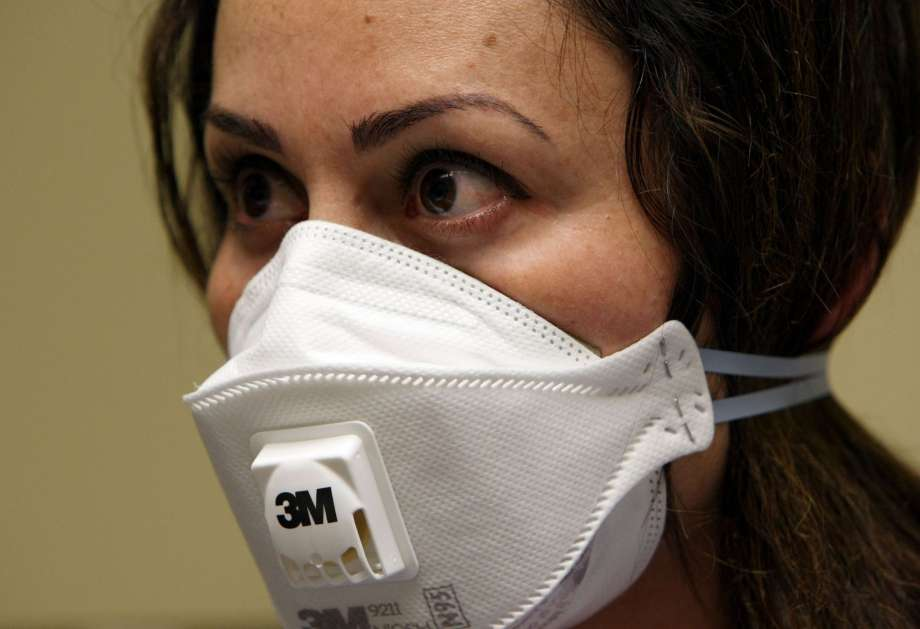n95: (176, 217, 734, 629)
